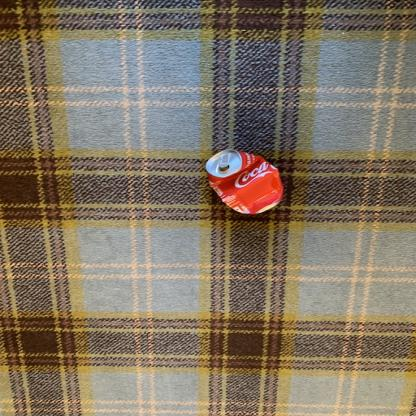trash: (204, 148, 286, 217)
